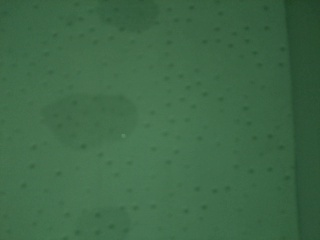Water_detected: (58, 99, 134, 147), (87, 203, 120, 236)
